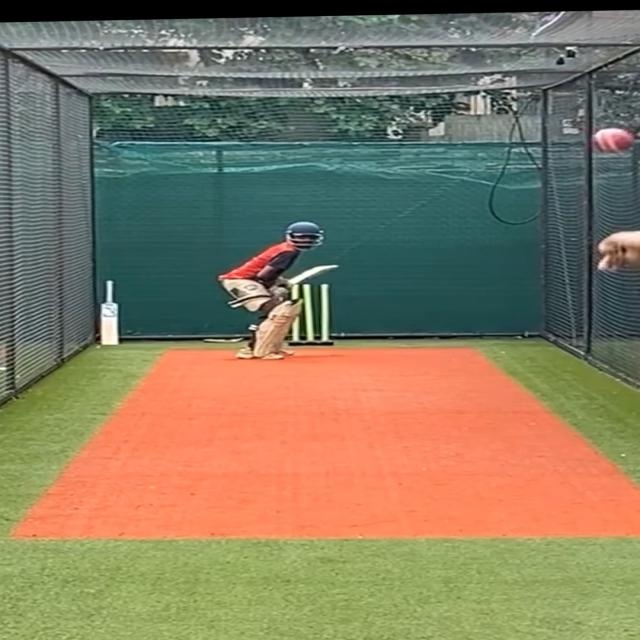ball: (584, 124, 638, 158)
stump: (286, 280, 334, 347)
